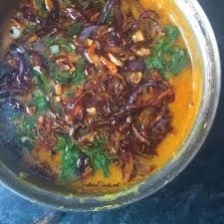dal: (0, 0, 208, 194)
